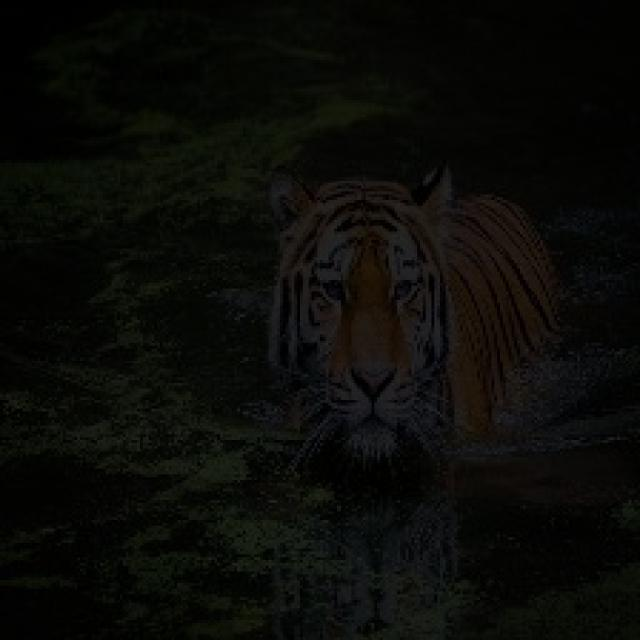bear: (242, 172, 595, 493)
